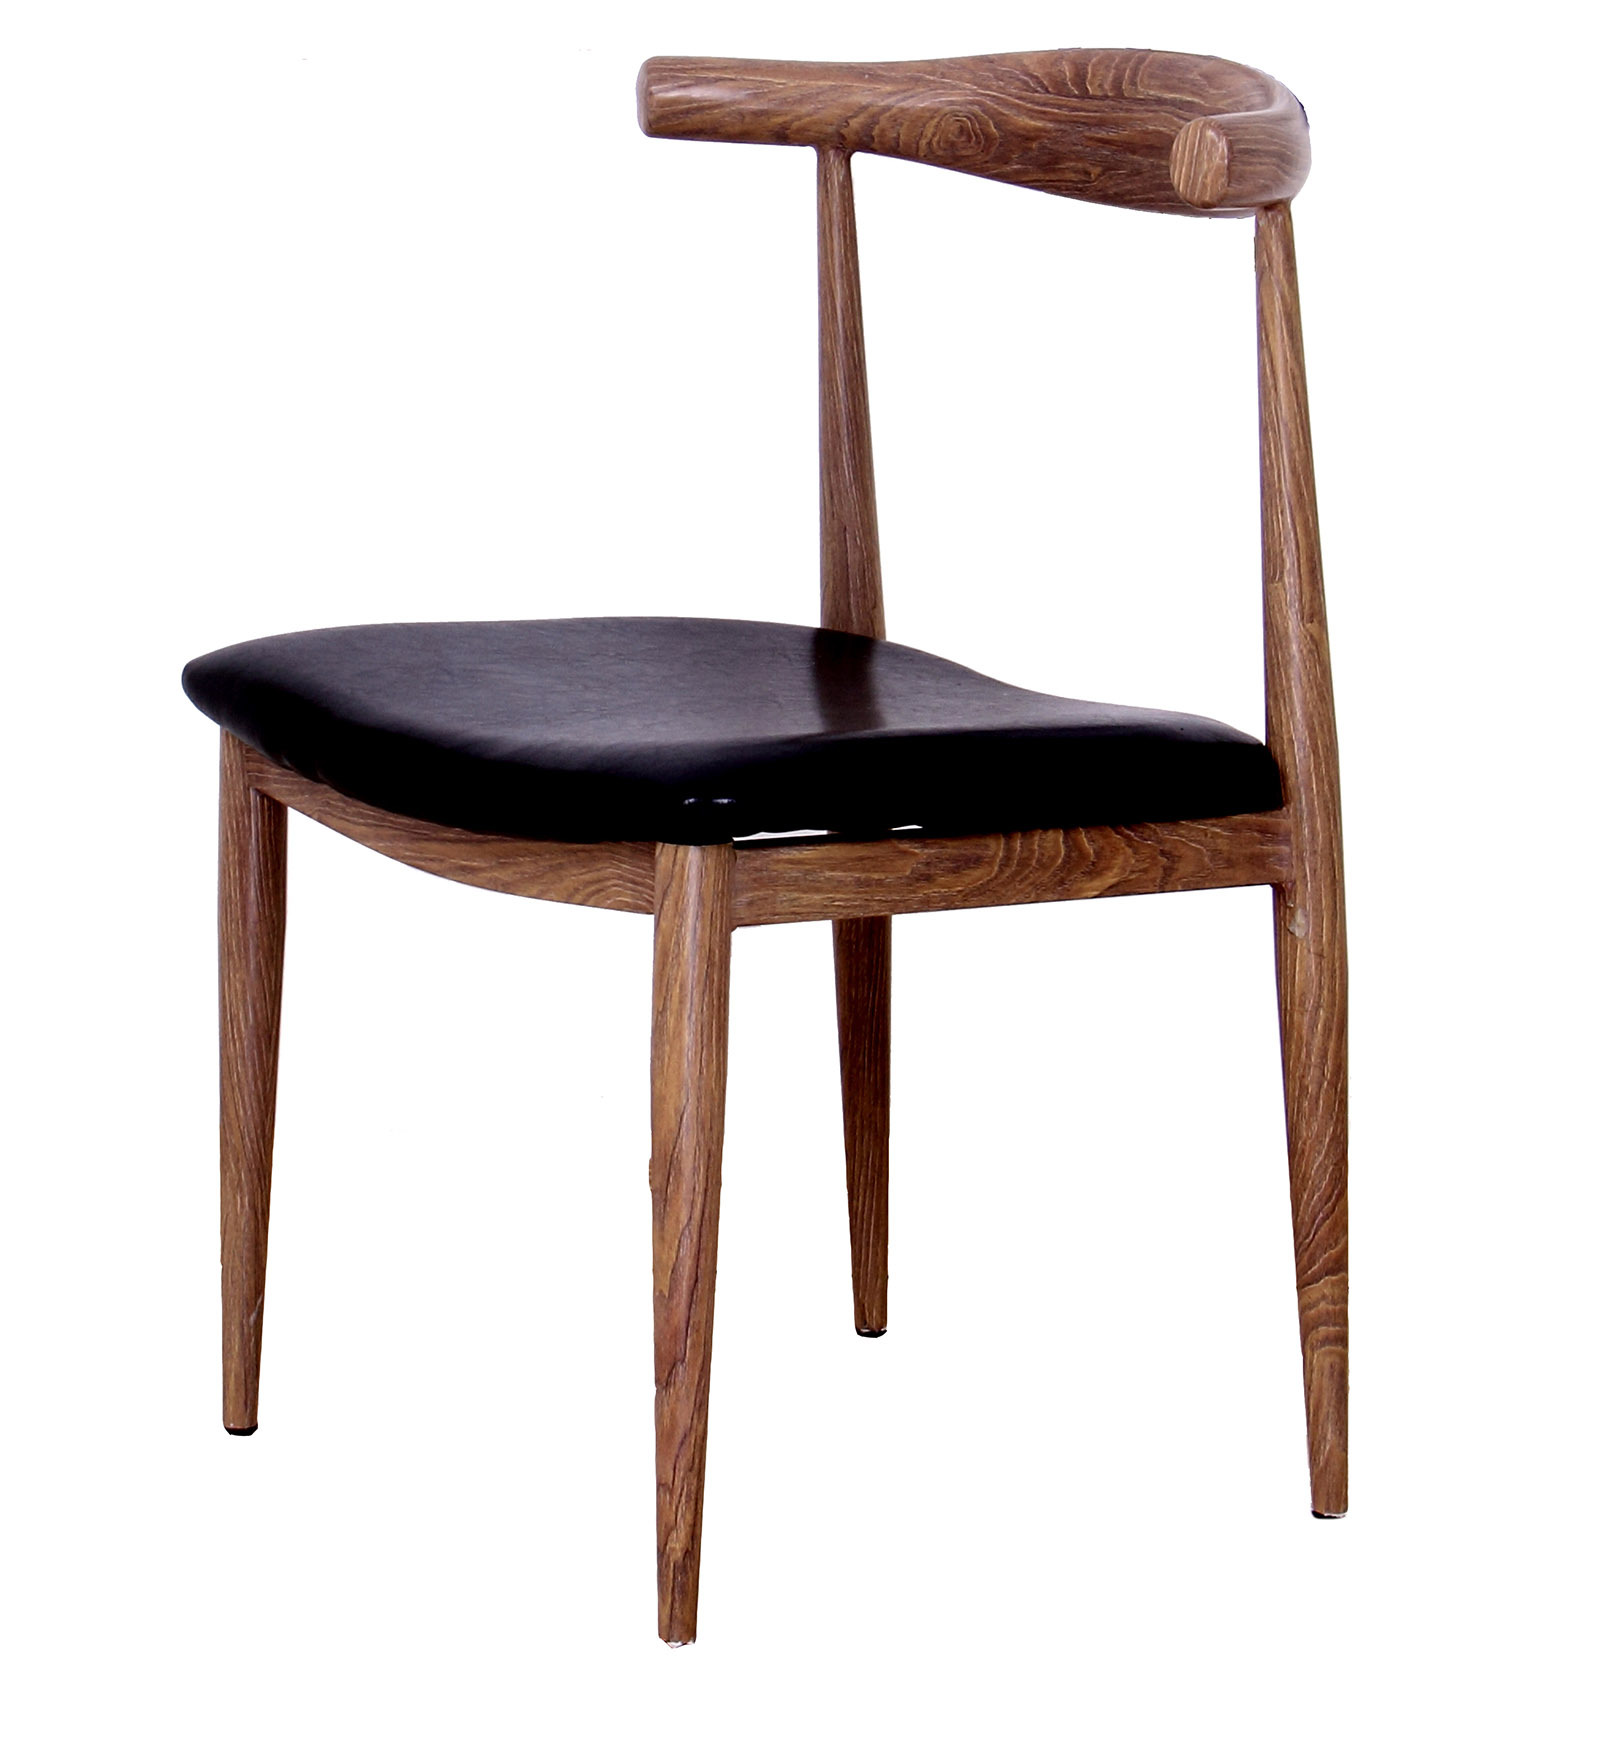Sherman Metal Chair (Set of 2) in Wooden Finish by Bohemiana: (166, 31, 1402, 1665)
